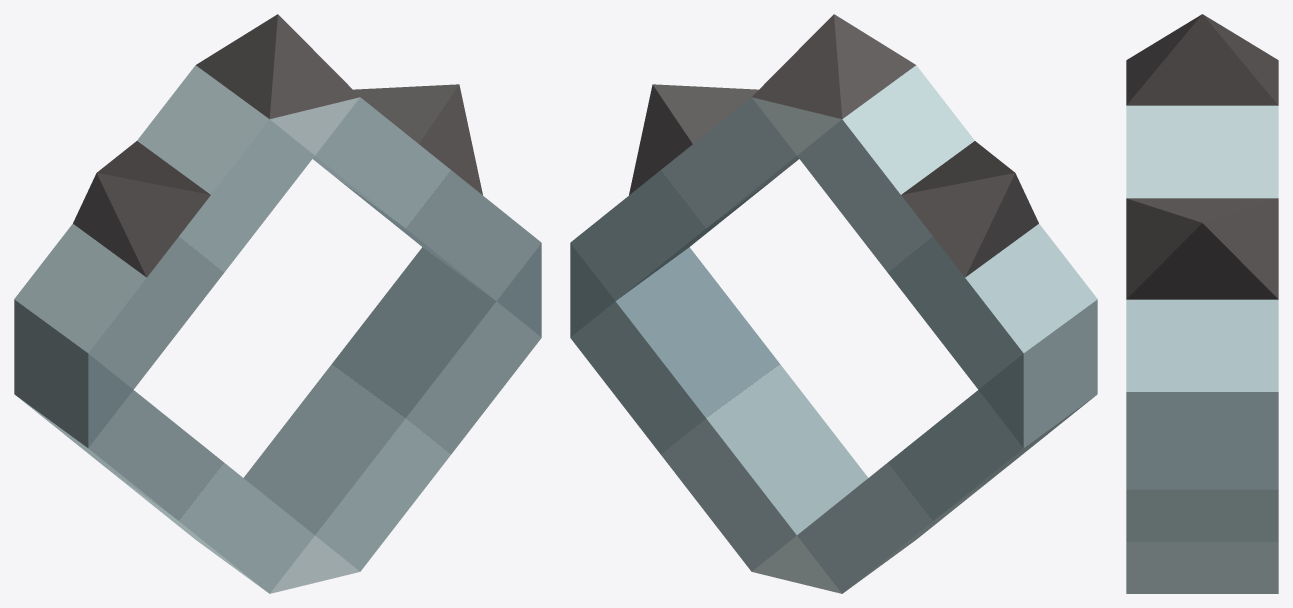
Rendered from ring_break_iron.obj.
3 renders of one model, left to right at view 1: azimuth 30°, elevation 25°; view 2: azimuth 150°, elevation 25°; view 3: azimuth 270°, elevation 25°, orthographic. The views are drawn at different scales.
Visible parts, largest first — view 1: RING_BASE_SILVER_Cube.036, RING_DECO_BREAKIRON_Plane.001; view 2: RING_BASE_SILVER_Cube.036, RING_DECO_BREAKIRON_Plane.001; view 3: RING_BASE_SILVER_Cube.036, RING_DECO_BREAKIRON_Plane.001.
Part boxes in pixels (x1,y1,x2,y2): RING_BASE_SILVER_Cube.036: (14, 65, 541, 593); RING_DECO_BREAKIRON_Plane.001: (73, 14, 482, 277); RING_BASE_SILVER_Cube.036: (570, 65, 1097, 593); RING_DECO_BREAKIRON_Plane.001: (629, 14, 1038, 277); RING_BASE_SILVER_Cube.036: (1126, 105, 1278, 593); RING_DECO_BREAKIRON_Plane.001: (1126, 14, 1278, 299).
Bounding box in the file's own units: 0.221 × 0.2522 × 0.0625.
